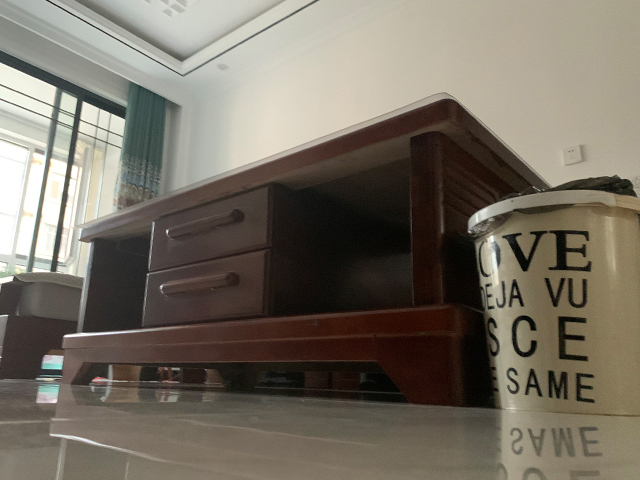table: (56, 90, 555, 408)
trashcan: (466, 188, 640, 417)
